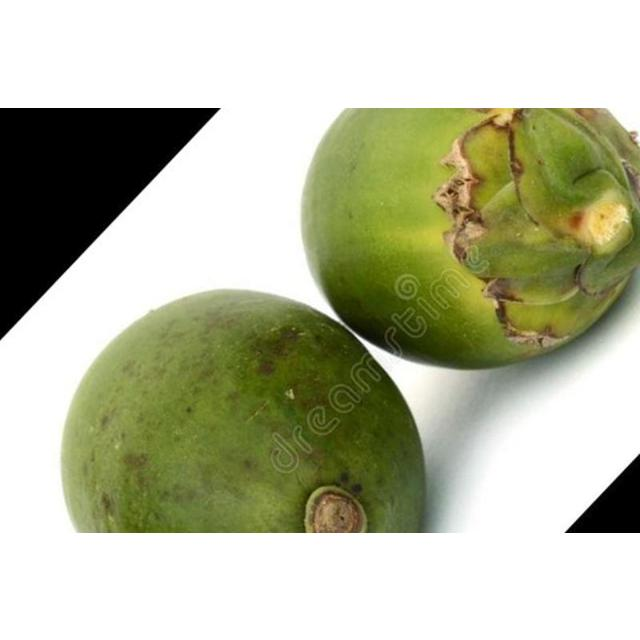good: (299, 107, 639, 372), (58, 288, 427, 532)
